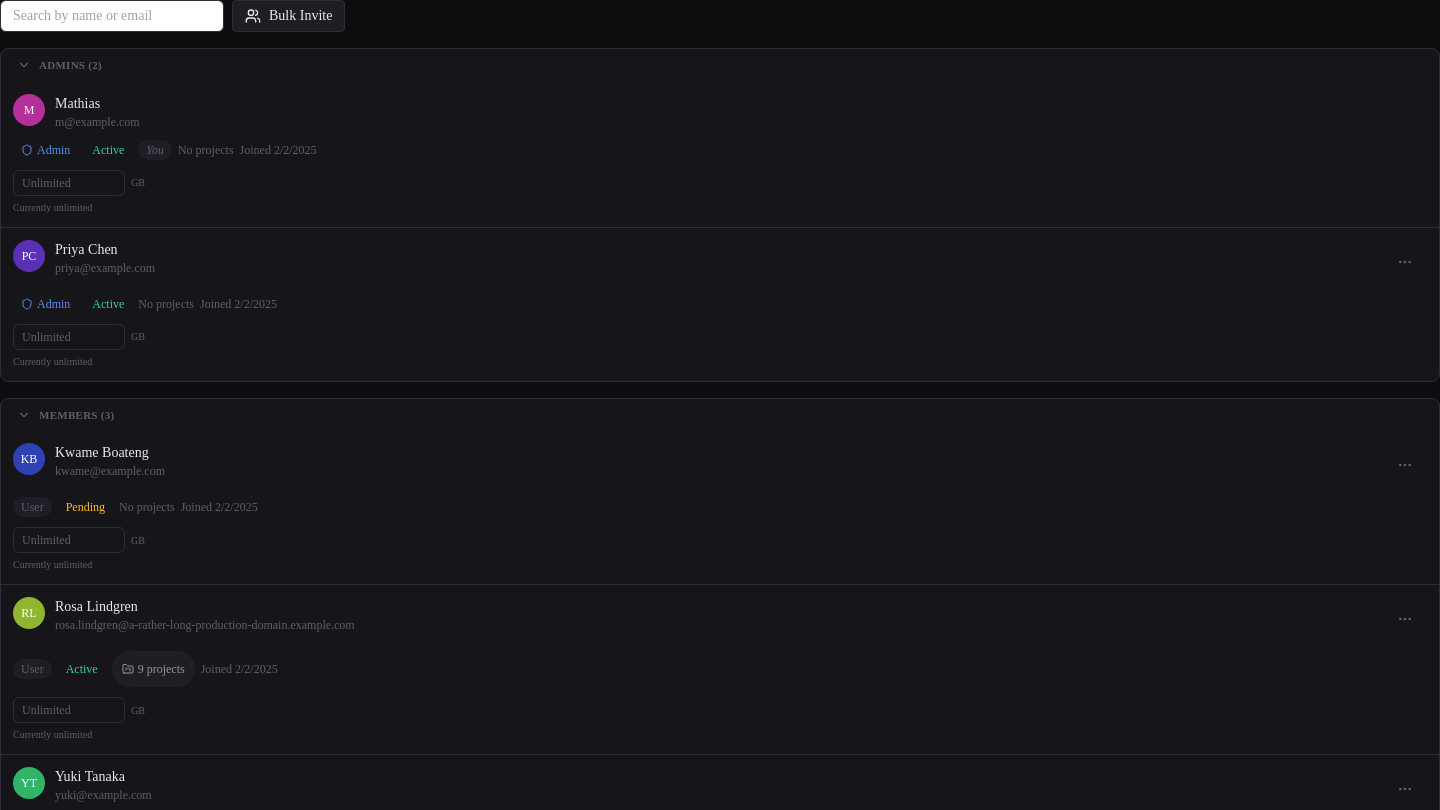
search and invite › filters the cards, and the Invite dialog is still there
Expected: the text "Rosa Lindgren" is shown, 55,599 -> 138,614
Expected: the button "Bulk Invite" is shown, 232,0 -> 345,32
Type "rosa" into the field with placeholder "Search by name or email". click: (112, 16)
box: 0,0 -> 224,32
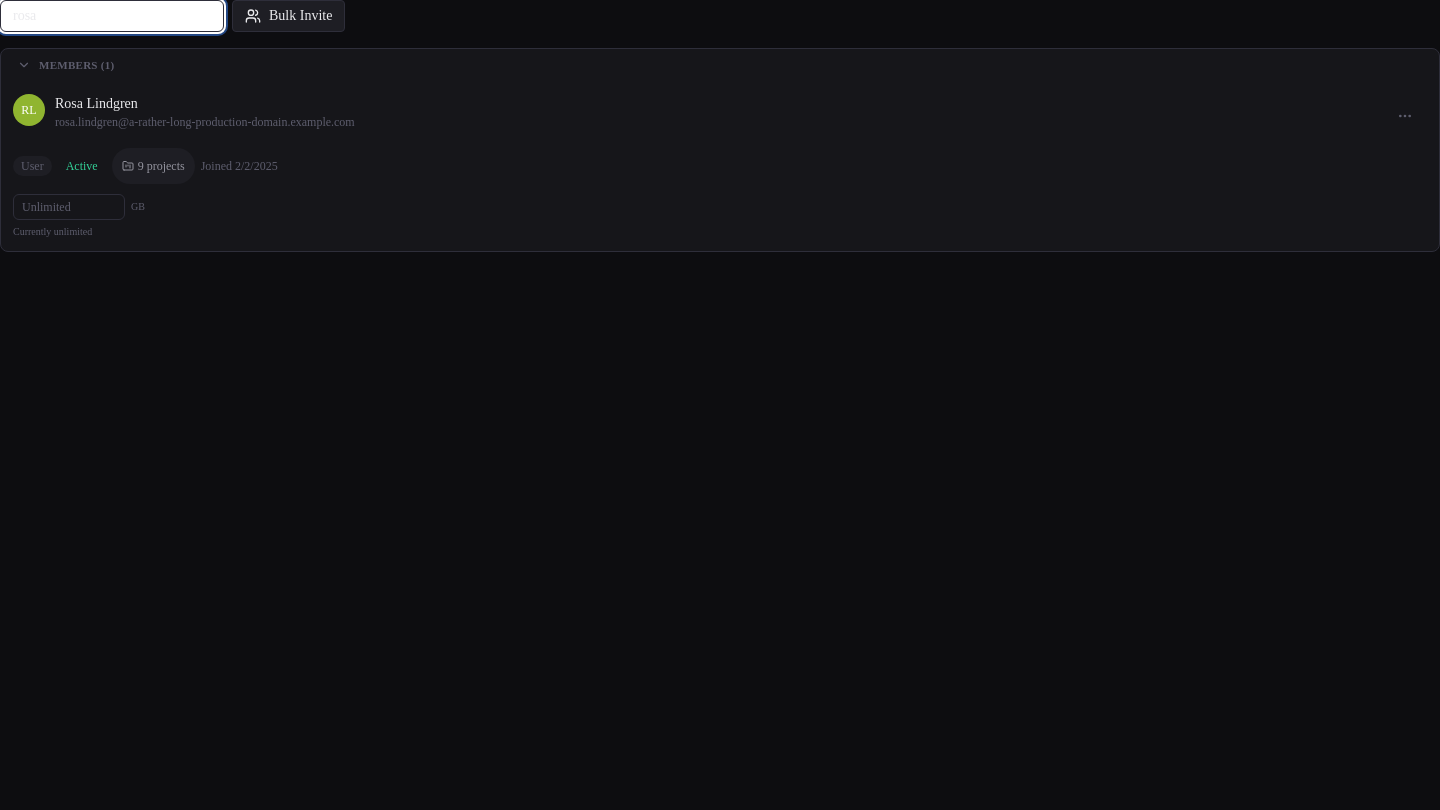
Expected: the text "Rosa Lindgren" is shown, 55,96 -> 138,110
Expected: the text "Kwame Boateng" is gone
